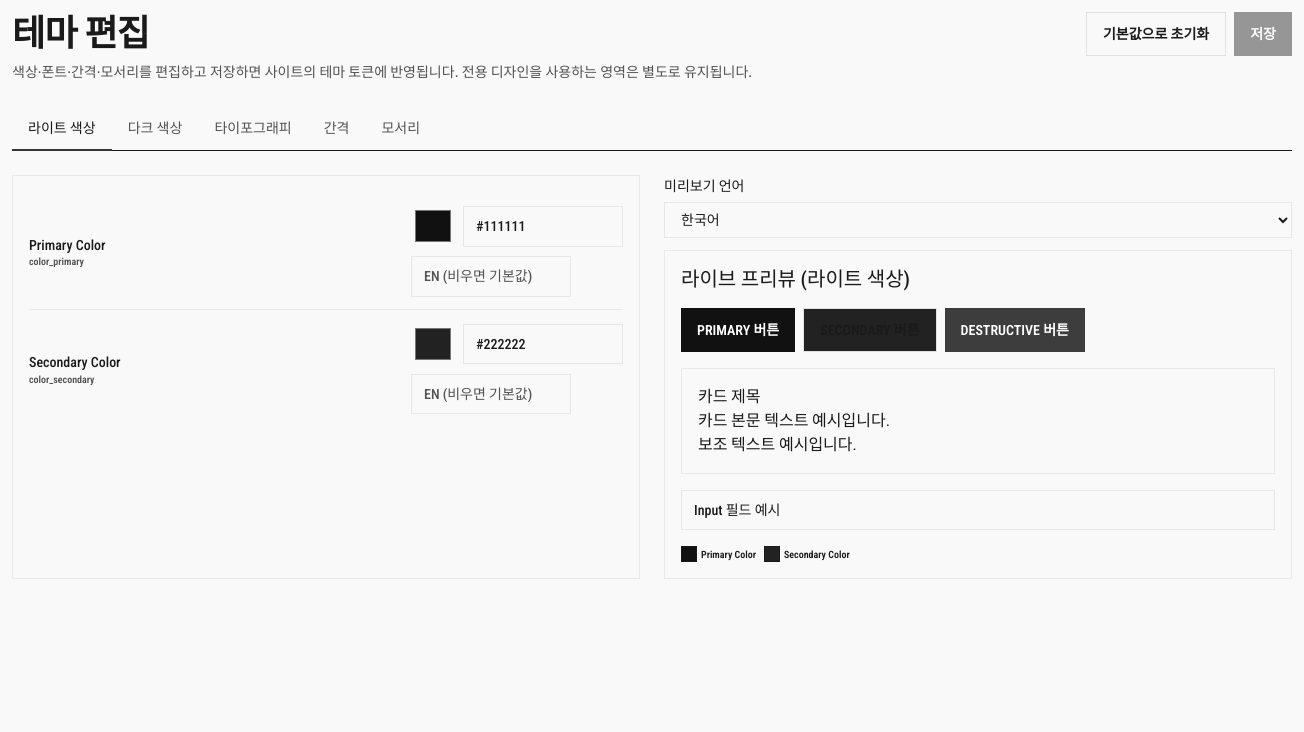
Test: ThemeEditor › keeps the color picker in sync for #abc
The width and height of the screenshot is (1304, 732).
Replace the text in the field named "Primary Color 값" with "#abc" at (543,226), box [463, 206, 623, 247]
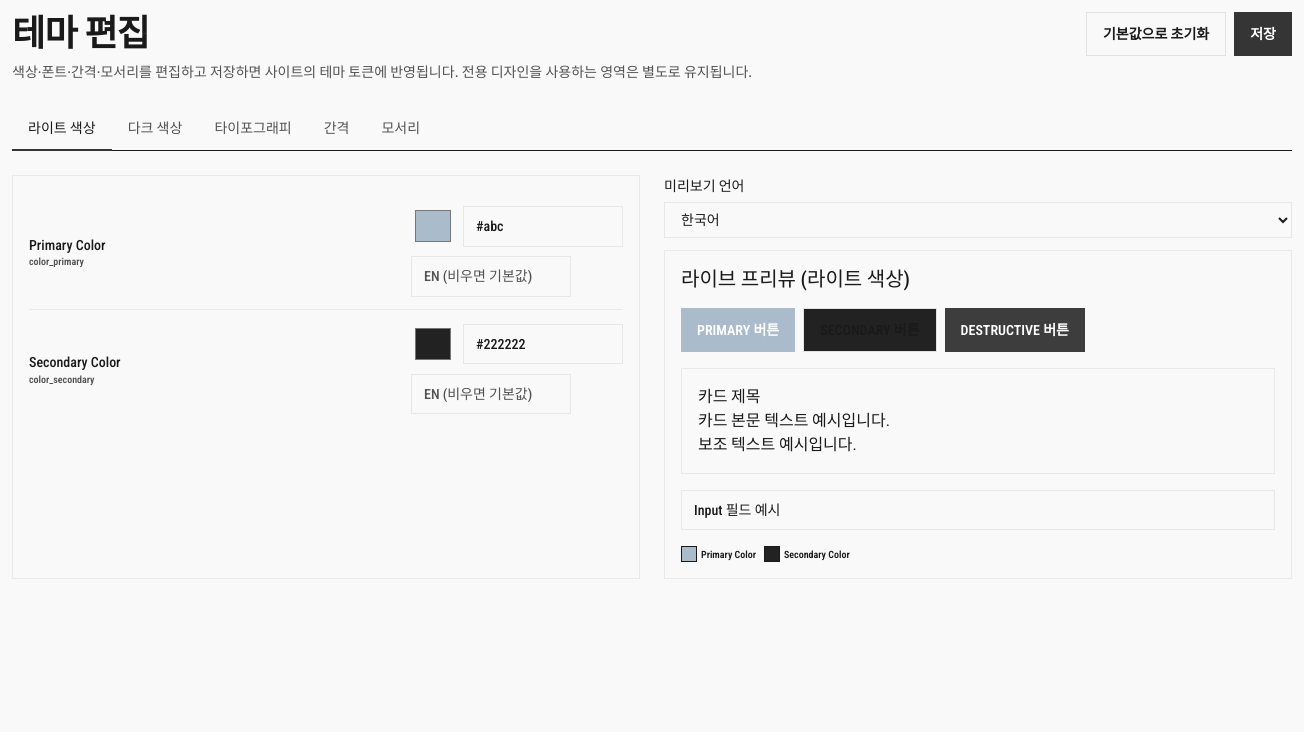
Check: the colour field named "Primary Color" holds "#aabbcc", box [411, 204, 455, 248]
